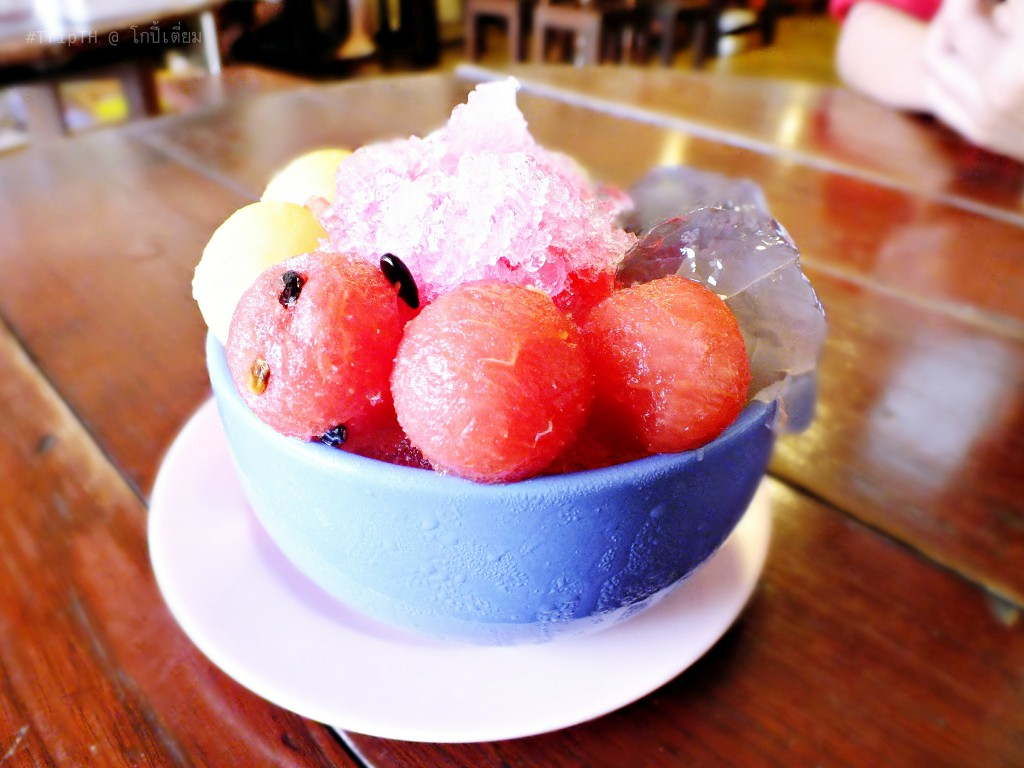O-eo: (173, 65, 839, 654)
